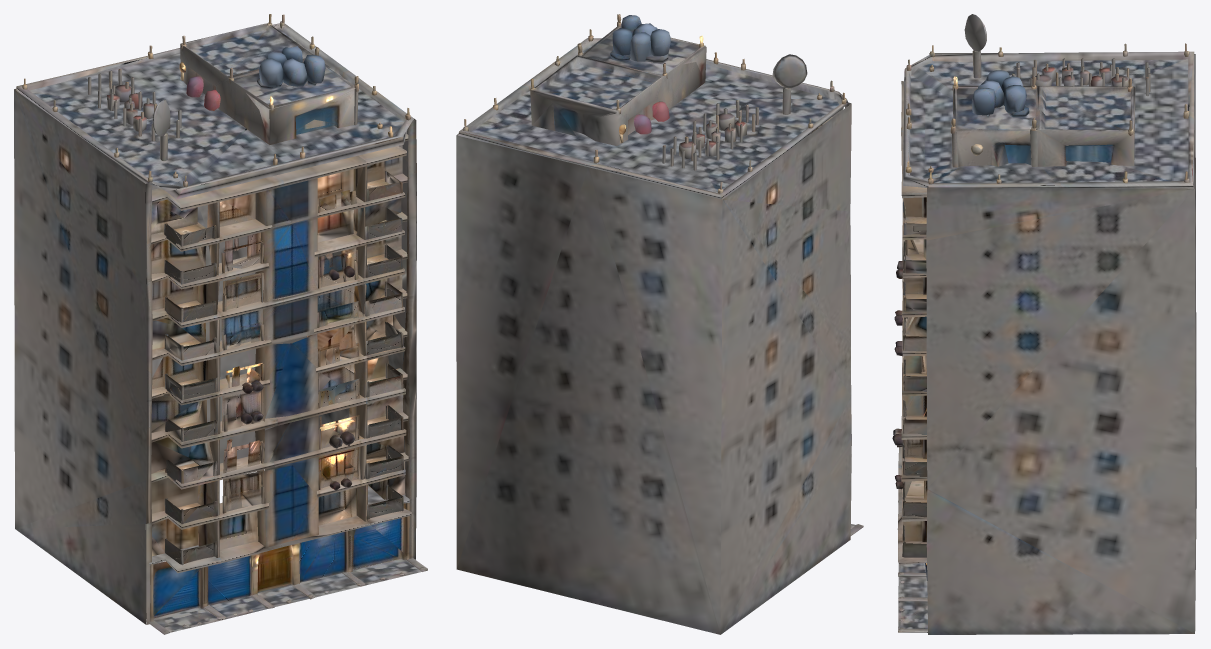
3 renders of one model, left to right at view 1: azimuth 30°, elevation 25°; view 2: azimuth 150°, elevation 25°; view 3: azimuth 270°, elevation 25°, orthographic. The views are drawn at different scales.
Visible parts, largest first — view 1: geometry_0; view 2: geometry_0; view 3: geometry_0.
Part boxes in pixels (left/top/right/bottom): geometry_0: left=14, top=14, right=427, bottom=634; geometry_0: left=456, top=14, right=863, bottom=634; geometry_0: left=892, top=14, right=1196, bottom=634.
Bounding box in the file's own units: 0.5641 × 0.9981 × 0.541.
1 material, 1 textured.
